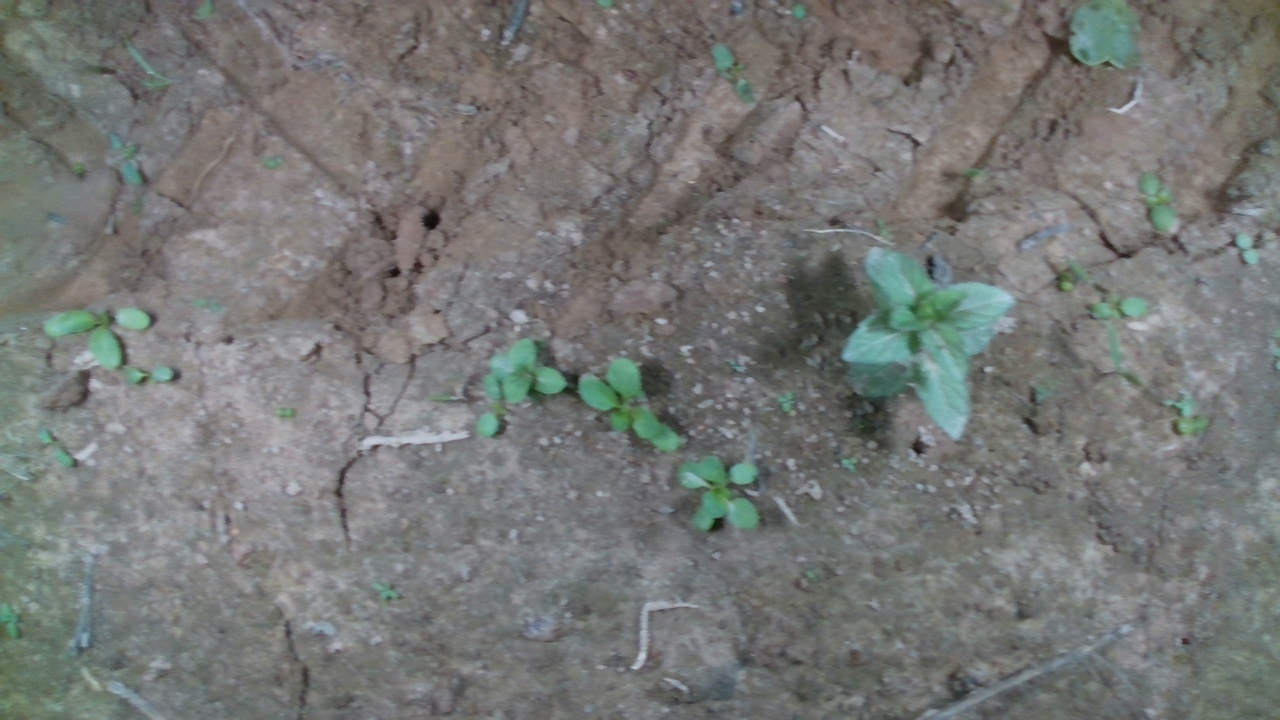weed: (1135, 170, 1179, 234), (41, 425, 76, 469), (125, 364, 176, 383), (1233, 229, 1259, 265)
